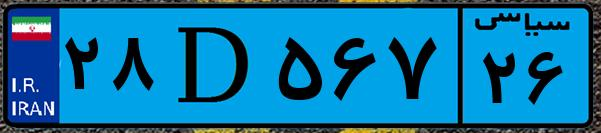2: (57, 26, 110, 100), (475, 38, 525, 113)
5: (270, 28, 330, 110)
6: (330, 28, 385, 110), (525, 38, 570, 115)
7: (385, 28, 445, 110)
8: (110, 28, 158, 98)
D: (158, 12, 270, 120)
